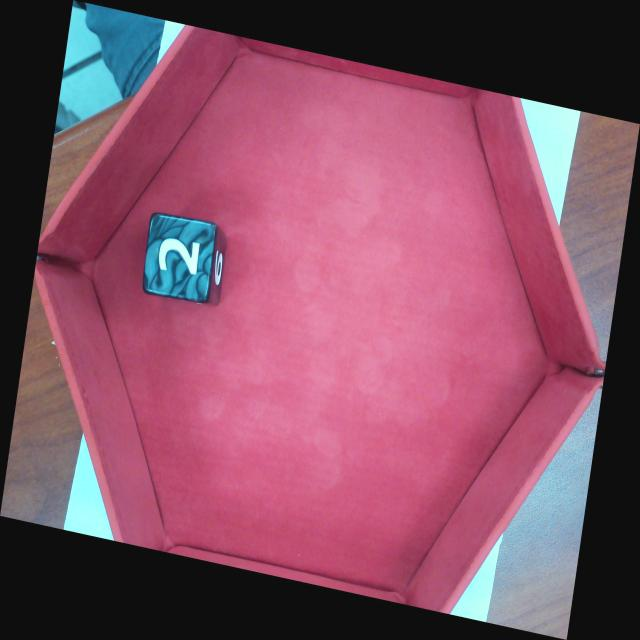dice: (145, 212, 219, 303)
